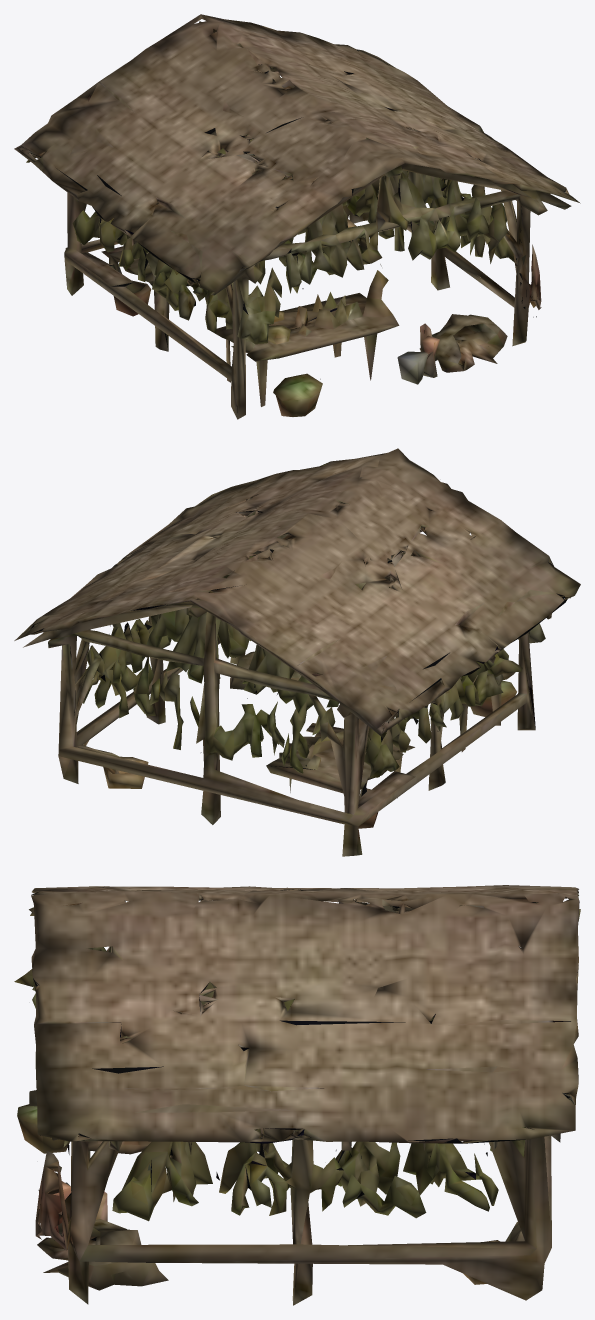
File: bq_incense.bk.glb
The picture shows the model from 3 angles, top to bottom: view 1: azimuth 30°, elevation 25°; view 2: azimuth 150°, elevation 25°; view 3: azimuth 270°, elevation 25°; orthographic projection. The views are drawn at different scales.
Parts seen in each view (by area): view 1: lo; view 2: lo; view 3: lo.
Boxes of the visible parts, bbox=[...] form: lo: bbox=[14, 14, 580, 419]; lo: bbox=[14, 448, 580, 856]; lo: bbox=[14, 885, 580, 1305].
Size of the model in its own units: 1.89 by 1.11 by 1.82.
Materials: 1 (1 with a texture image).
